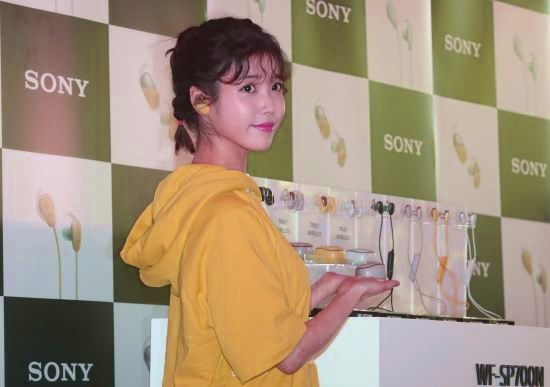earphone: (190, 85, 212, 116)
